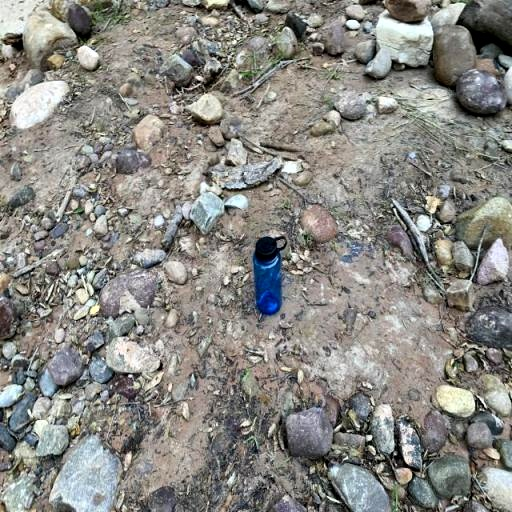bottle: (253, 236, 287, 314)
